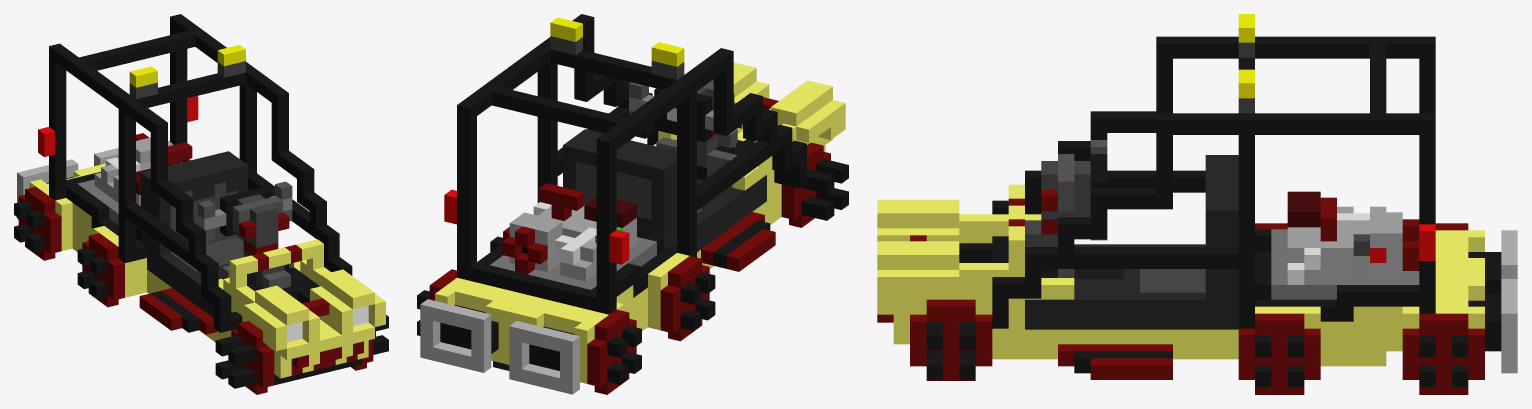
Rendered from Yellow_6_Wheeler_Chassis.obj.
The picture shows the model from 3 angles, left to right: view 1: azimuth 30°, elevation 25°; view 2: azimuth 150°, elevation 25°; view 3: azimuth 270°, elevation 25°; orthographic projection. The views are drawn at different scales.
Bounding box in the file's own units: 1.6 × 2 × 3.9.
Materials: 1 (1 with a texture image).
